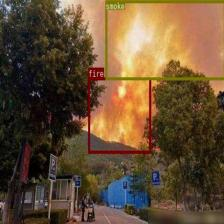fire: (88, 77, 151, 153)
smoke: (105, 0, 224, 79)
